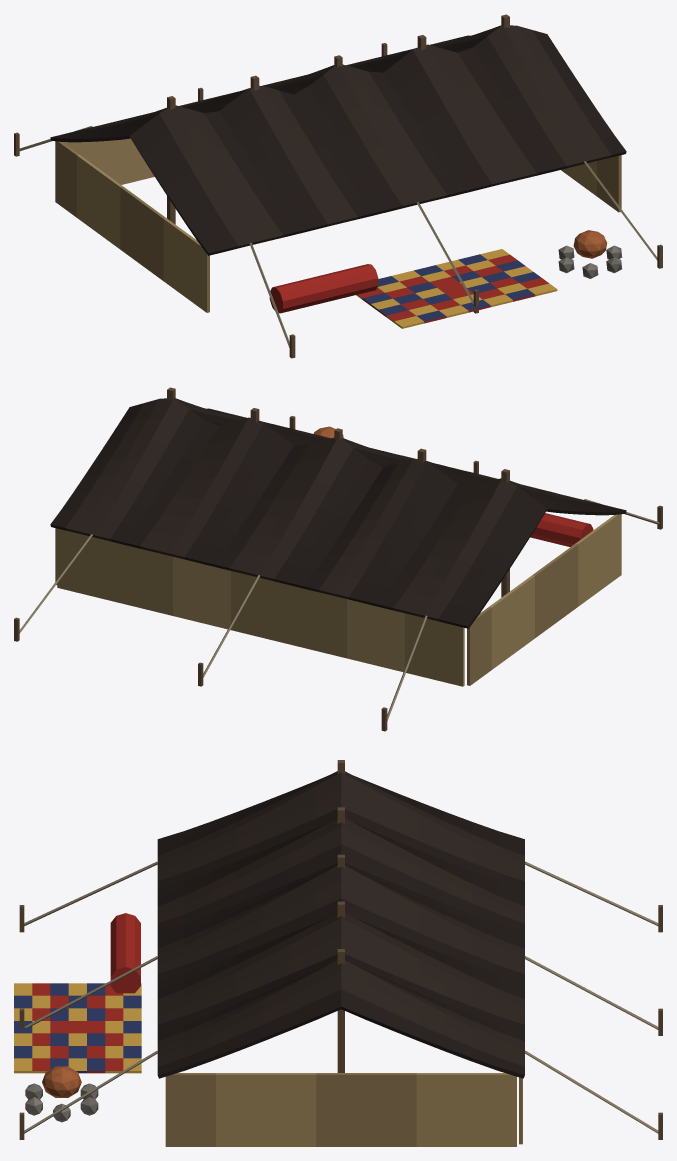
File: nomad_tent_1.glb
The picture shows the model from 3 angles, top to bottom: view 1: azimuth 30°, elevation 25°; view 2: azimuth 150°, elevation 25°; view 3: azimuth 270°, elevation 25°; orthographic projection. The views are drawn at different scales.
Visible parts, largest first — view 1: roof; view 2: roof; view 3: roof.
Boxes of the visible parts, bbox=[...] form: roof: bbox=[14, 14, 662, 358]; roof: bbox=[14, 387, 662, 731]; roof: bbox=[14, 760, 662, 1146].
Bounding box in the file's own units: 7 × 2.48 × 8.13.
